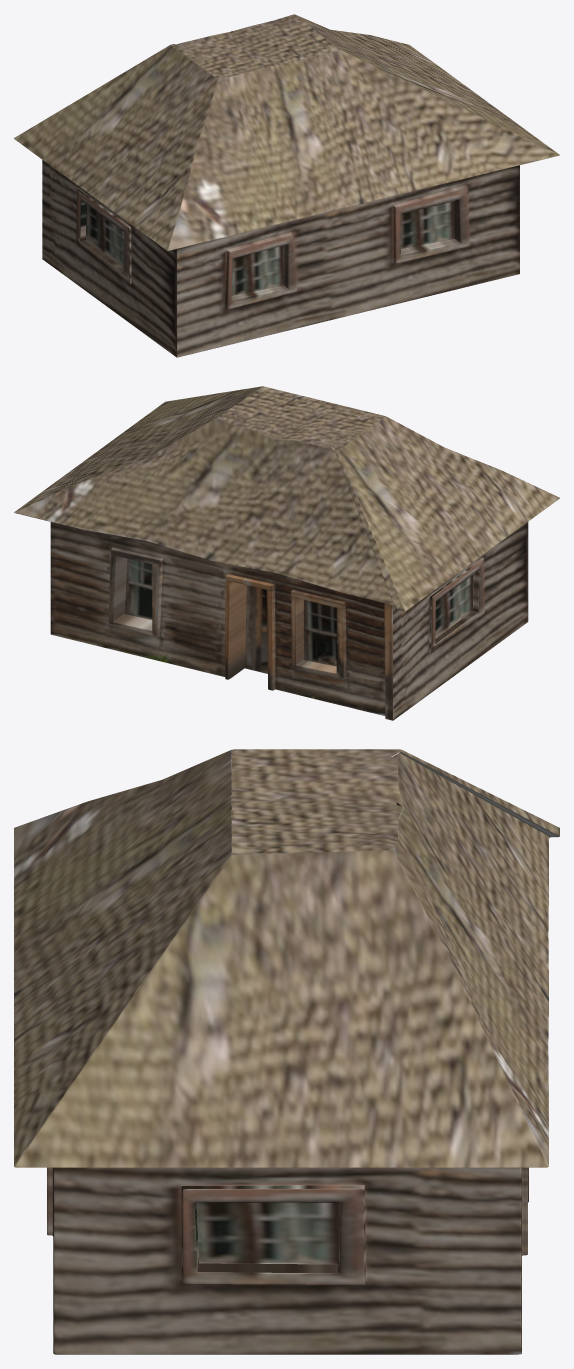
The model's file is house.fbx.
3 renders of one model, top to bottom at view 1: azimuth 30°, elevation 25°; view 2: azimuth 150°, elevation 25°; view 3: azimuth 270°, elevation 25°, orthographic. The views are drawn at different scales.
Parts seen in each view (by area): view 1: Cube; view 2: Cube; view 3: Cube.
Part boxes in pixels (<box>): Cube: <box>14,14,559,357</box>; Cube: <box>14,386,559,720</box>; Cube: <box>14,749,559,1354</box>.
Bounding box in the file's own units: 1716 × 925 × 1166.
